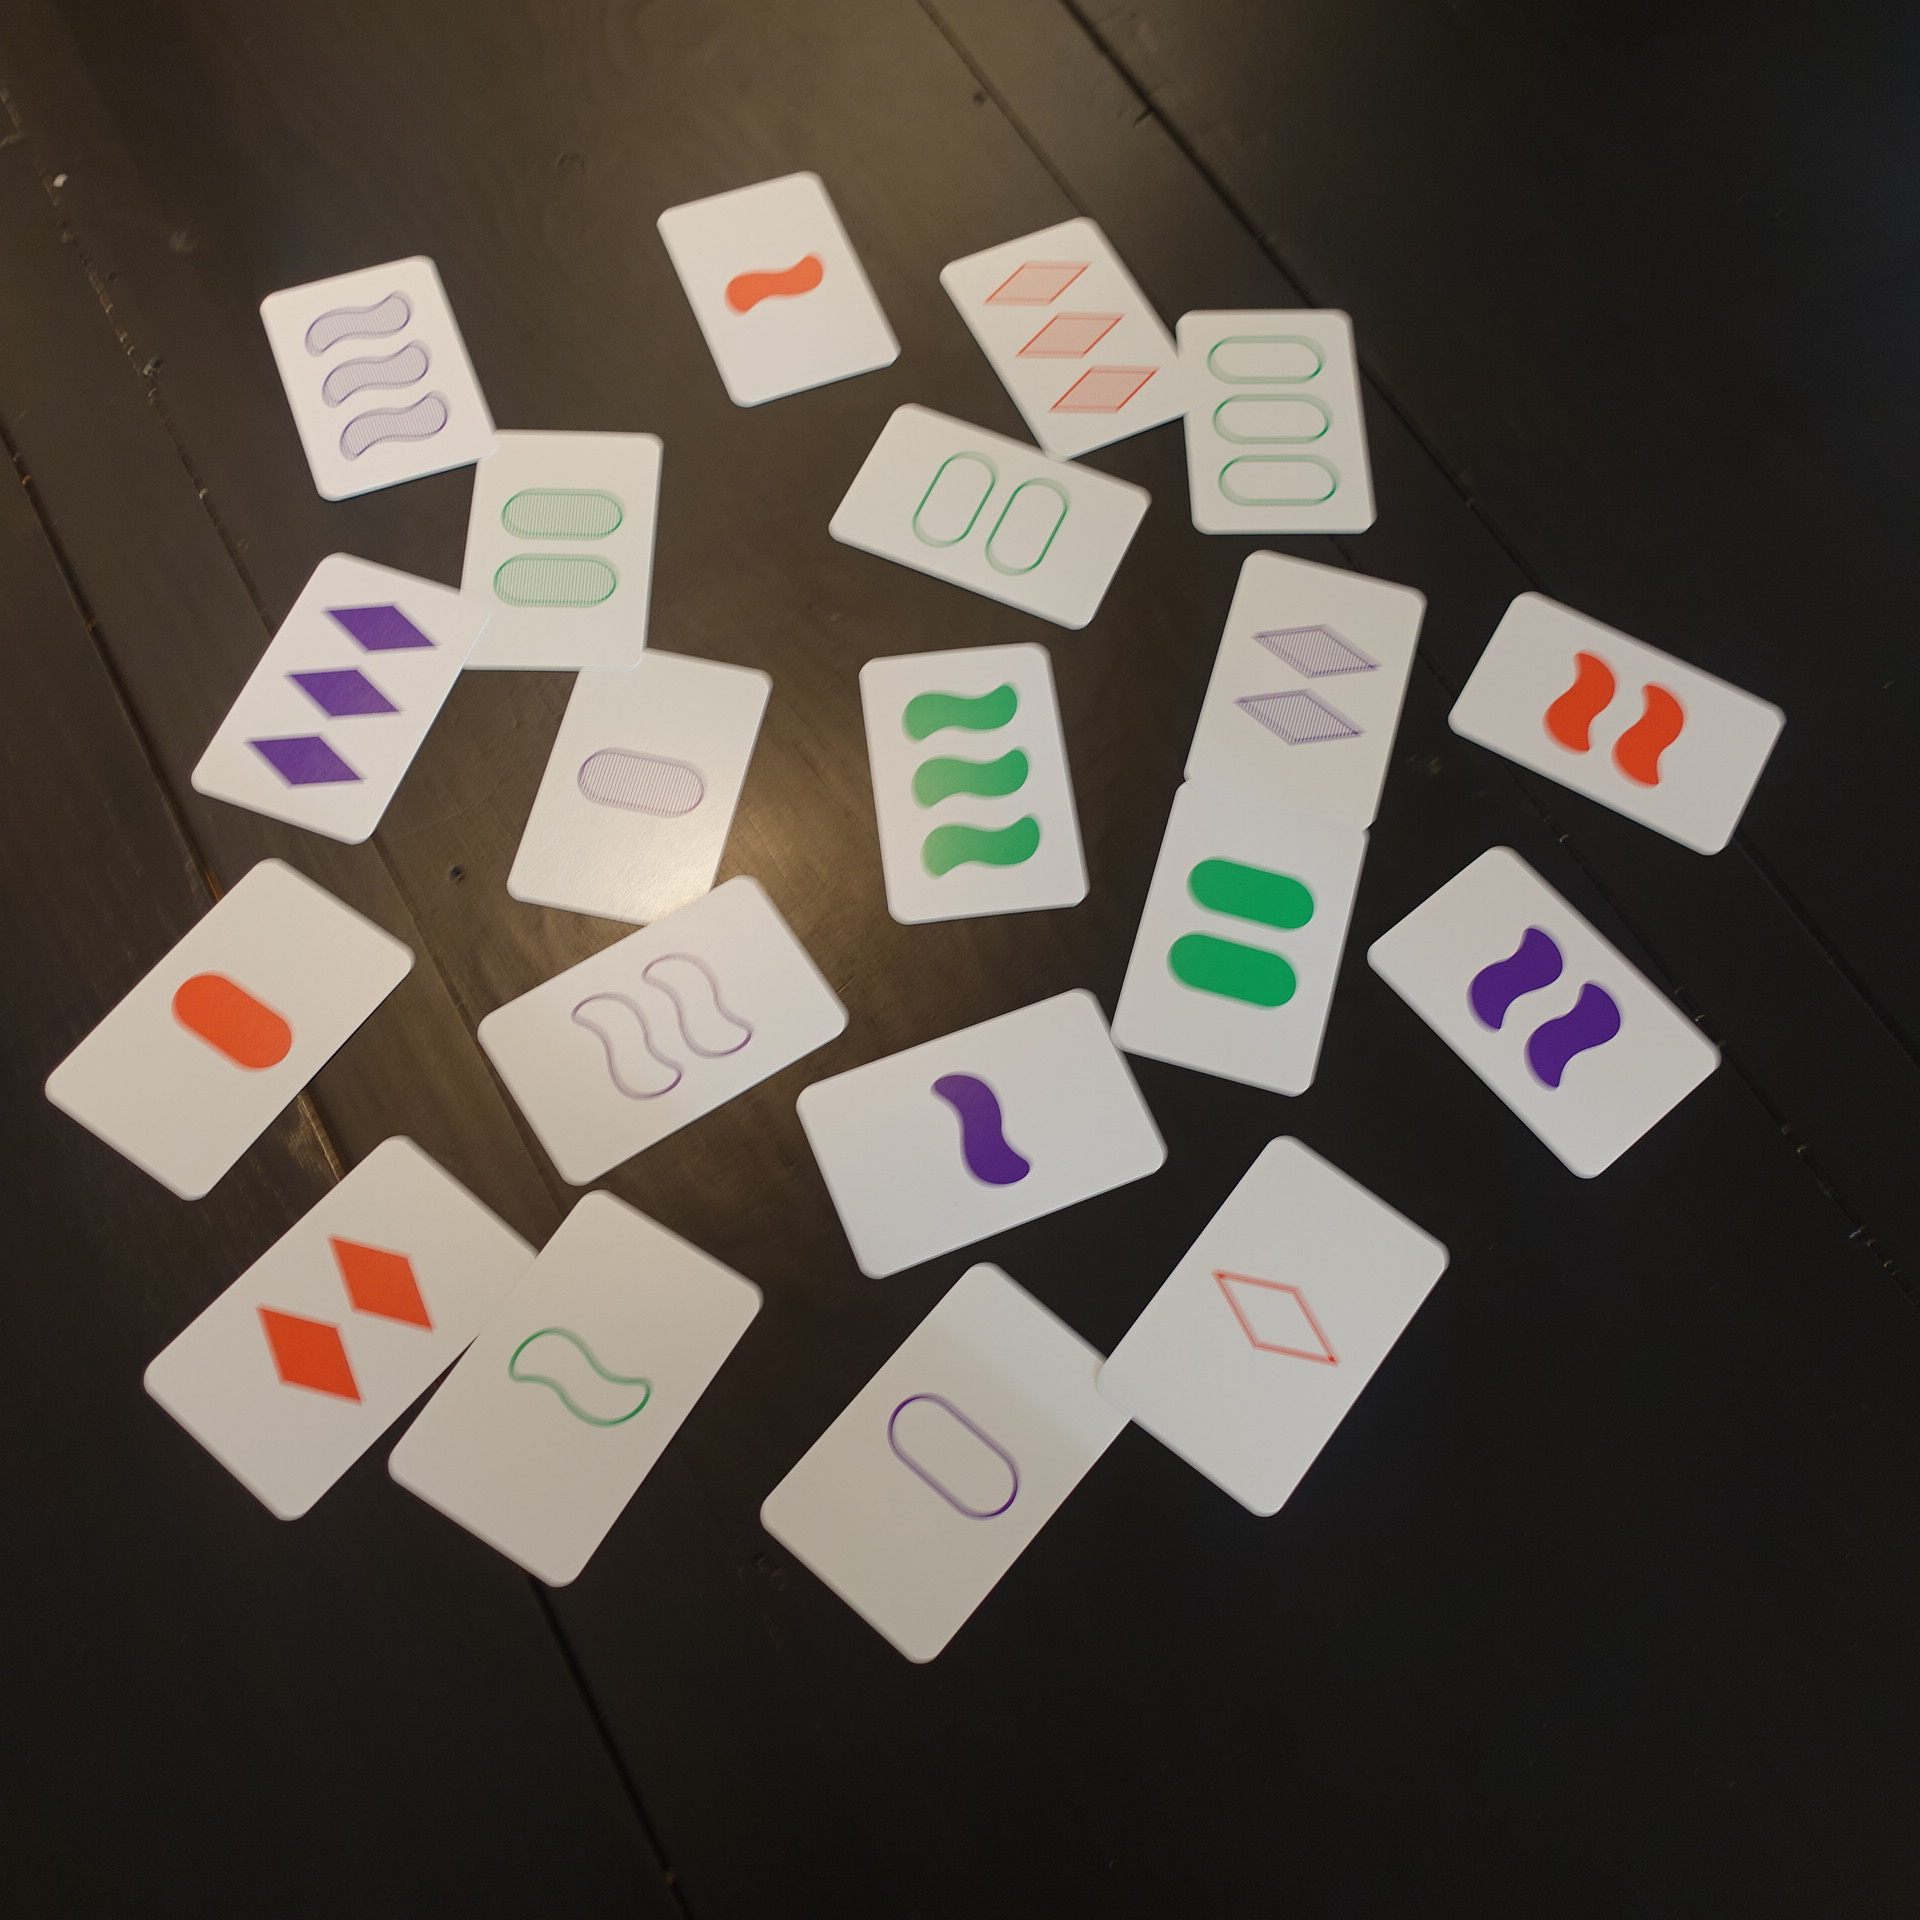c-1-f-o-r: (26, 853, 425, 1211)
c-1-f-s-r: (784, 983, 1182, 1289), (642, 162, 907, 424)
c-1-h-o-r: (503, 636, 789, 934)
c-1-u-d-r: (1099, 1124, 1459, 1526)
c-1-u-o-r: (756, 1252, 1146, 1674)
c-1-u-s-r: (380, 1180, 775, 1598)
c-2-f-d-r: (128, 1124, 550, 1530)
c-2-f-o-r: (1095, 777, 1384, 1108)
c-2-f-s-r: (1356, 835, 1734, 1194), (1426, 580, 1797, 867)
c-2-h-d-r: (1178, 540, 1436, 832)
c-2-h-o-r: (447, 417, 670, 686)
c-2-u-o-r: (819, 397, 1160, 636)
c-2-u-s-r: (464, 869, 858, 1196)
c-3-f-d-r: (176, 543, 498, 855)
c-3-f-s-r: (835, 631, 1099, 935)
c-3-h-d-r: (932, 207, 1217, 471)
c-3-h-s-r: (253, 244, 512, 512)
c-3-u-o-r: (1157, 294, 1384, 547)
